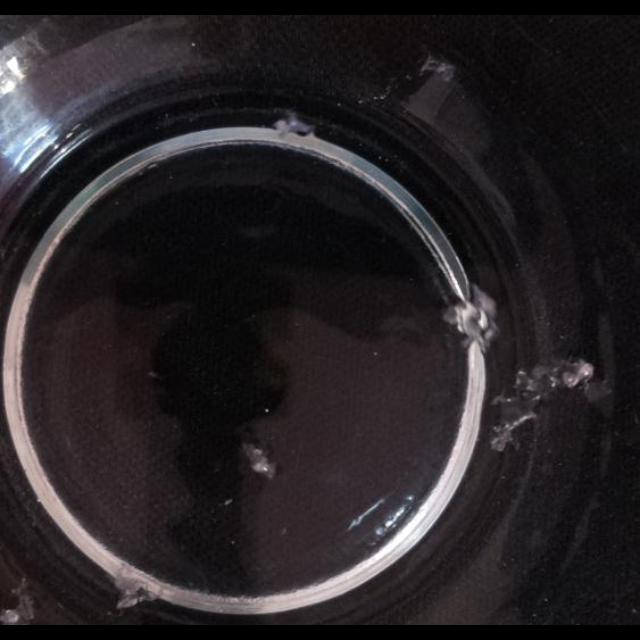Fibre: (486, 355, 606, 447), (441, 280, 501, 354), (489, 396, 538, 448), (240, 440, 278, 480), (1, 580, 37, 622), (116, 582, 156, 610), (272, 112, 314, 138), (560, 358, 594, 388)
microbeads: (148, 370, 160, 380), (223, 498, 233, 507), (264, 408, 270, 414)
